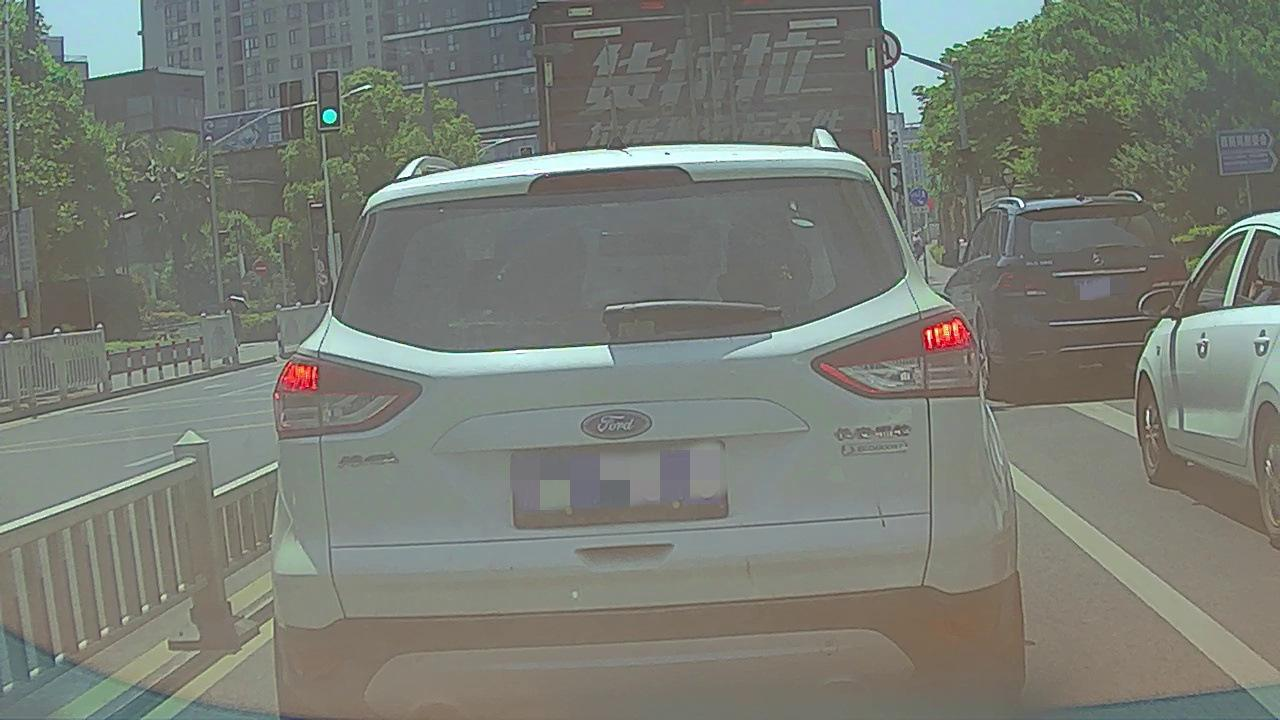traffic_light: (318, 72, 340, 129)
